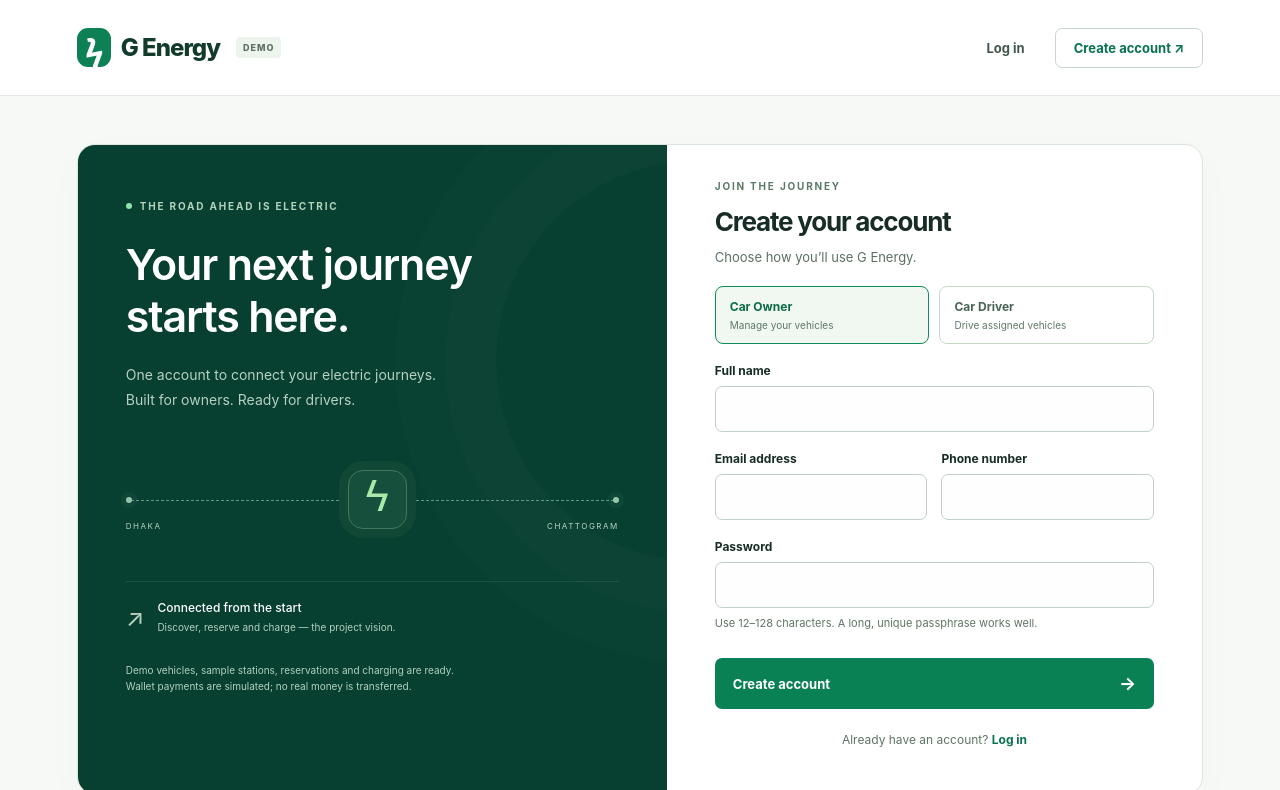
Scenario: authentication screens › shows registration errors and lets the user retry
Type "Demo Owner" into the field labelled "Full name" at (934, 409), box [715, 386, 1154, 432]
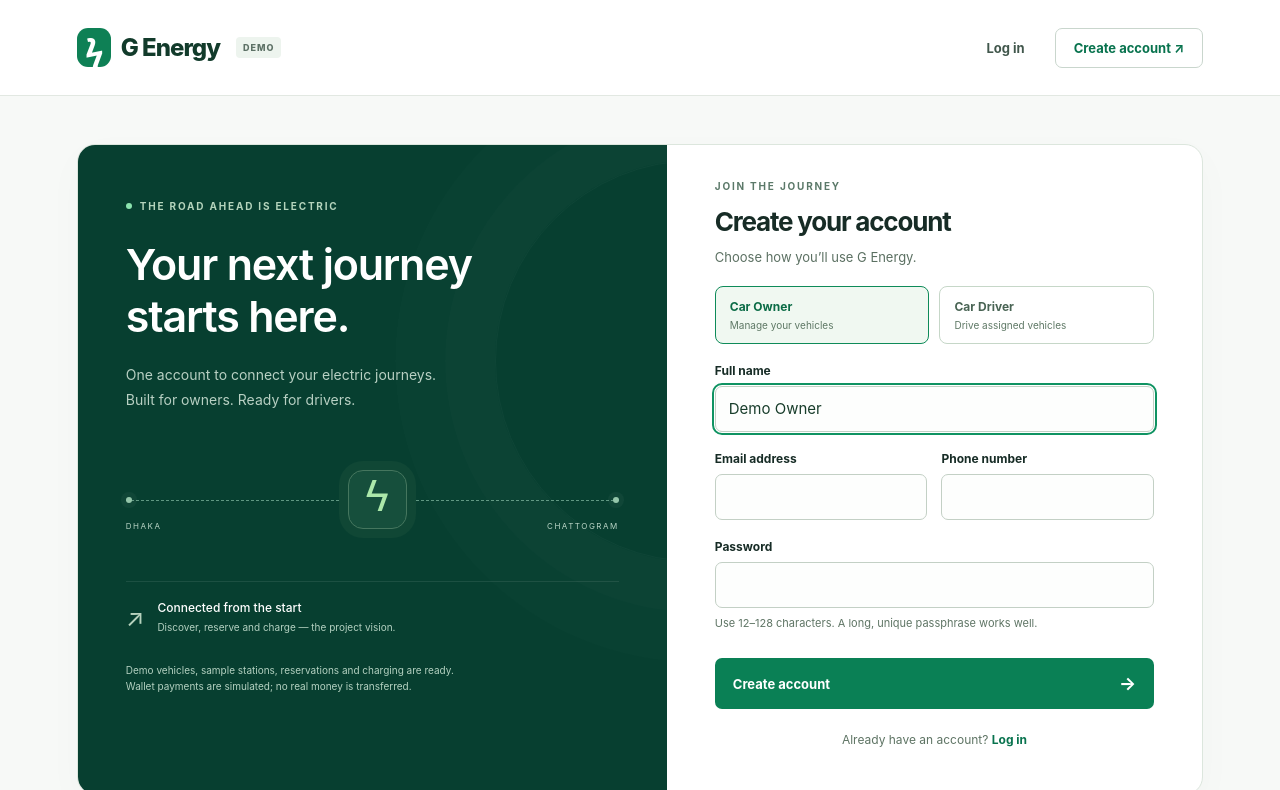
Type "owner@example.test" into the field labelled "Email address" at (821, 497), box [715, 474, 928, 520]
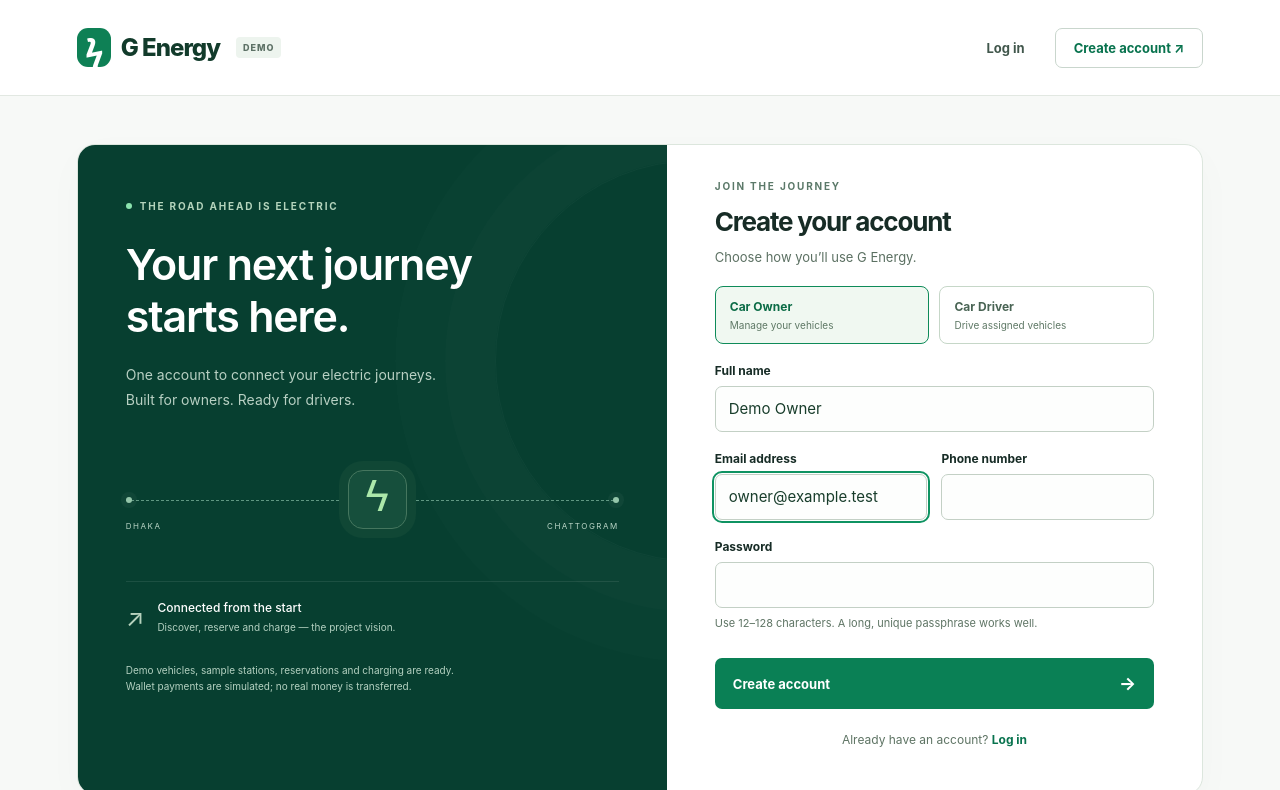
Type "01700000000" into the field labelled "Phone number" at (1048, 497), box [942, 474, 1154, 520]
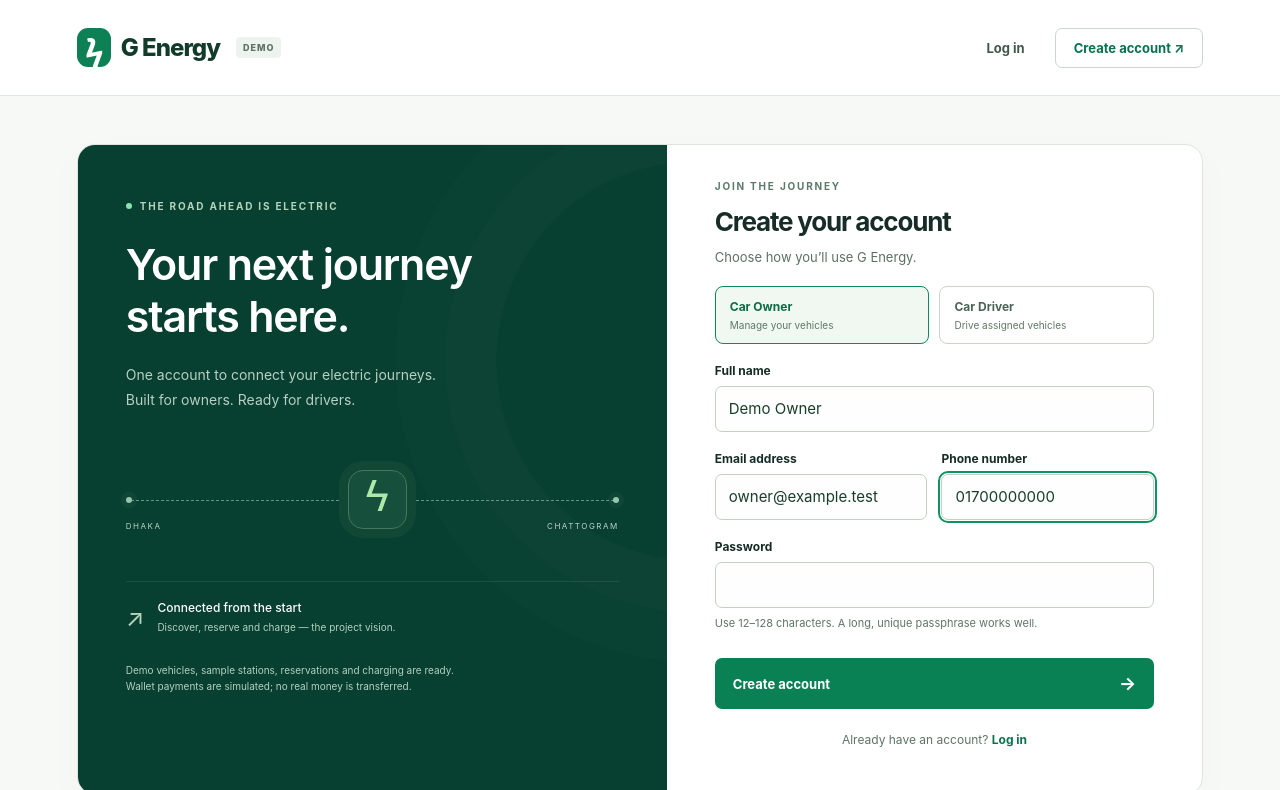
Type "Test-only-long-passphrase" into the password field labelled "Password" at (934, 585), box [715, 562, 1154, 608]
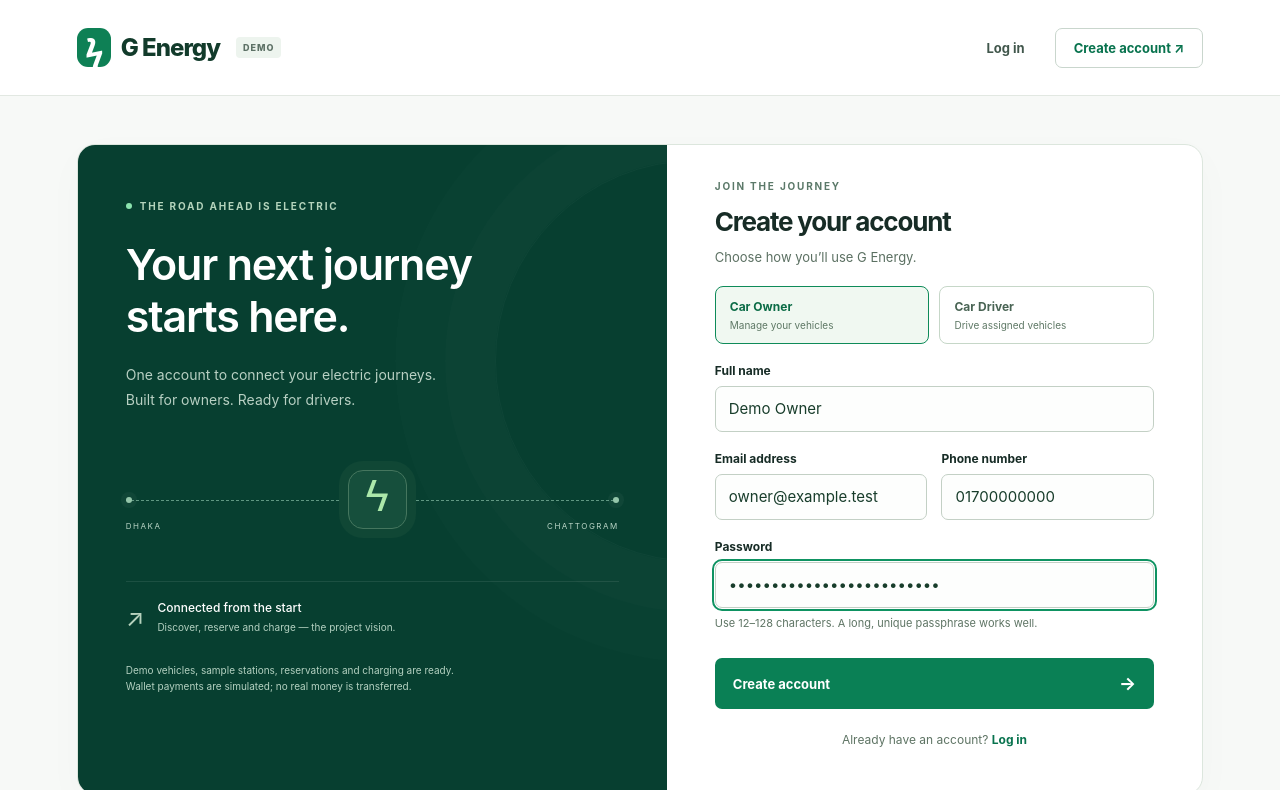
Click the button "Create account →" at (781, 684), box [715, 658, 1154, 709]
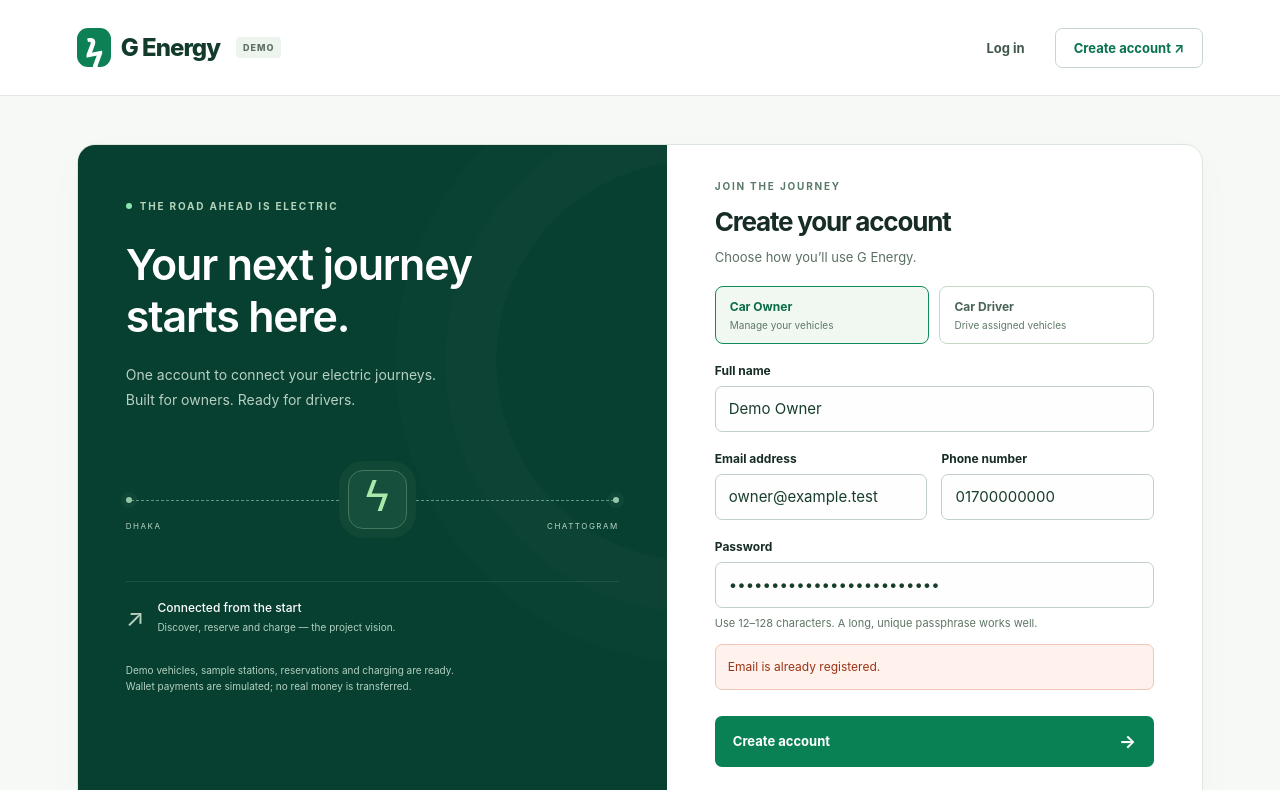
Expected: the button "Create account →" is enabled, [715, 716, 1154, 767]
Expected: the message reads "Email is already registered.", [728, 659, 880, 674]
